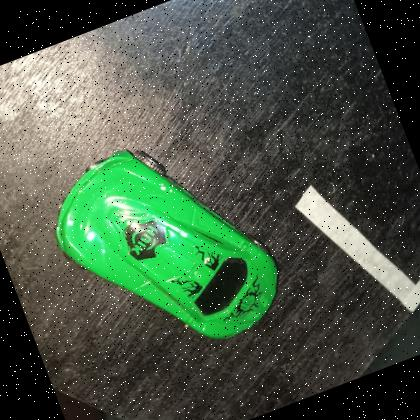Car: (55, 148, 278, 338)
